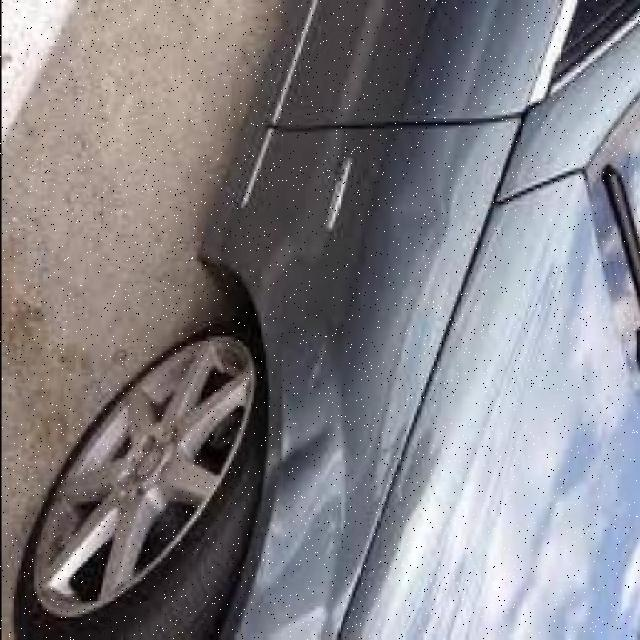damage: (224, 162, 458, 640)
